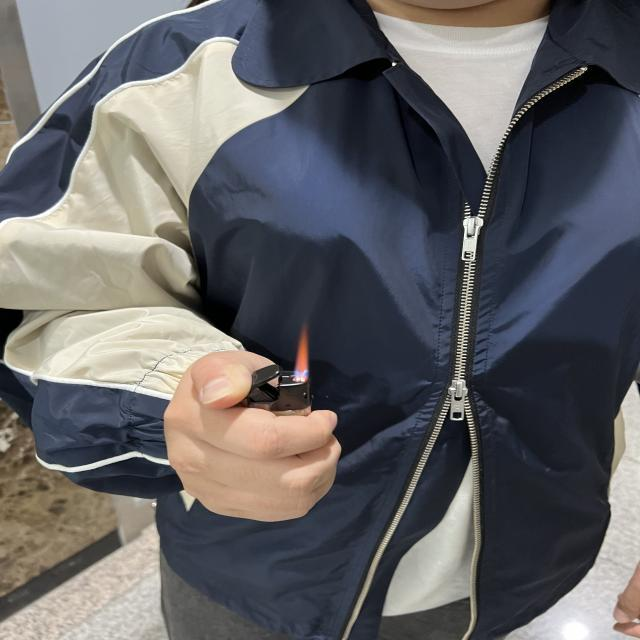fire: (290, 325, 312, 382)
